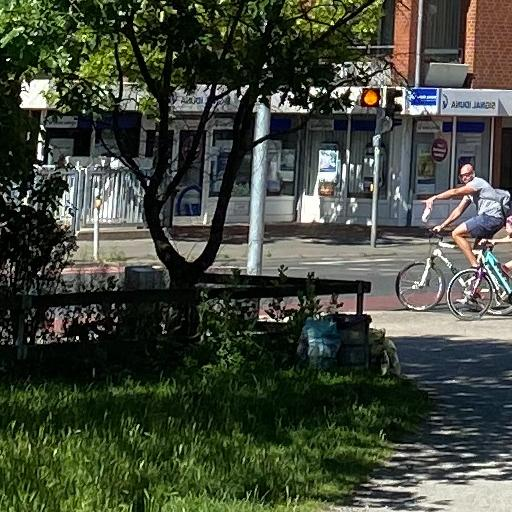tree: (44, 1, 444, 313), (1, 1, 386, 124)
